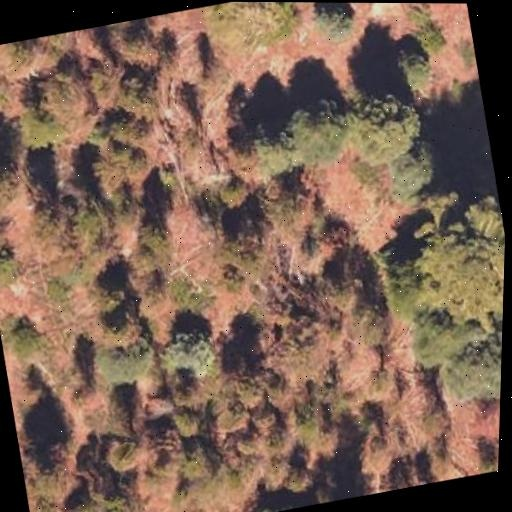tree-top: (390, 185, 507, 337), (330, 79, 427, 176), (266, 89, 359, 180), (187, 1, 305, 62), (429, 322, 503, 413), (81, 319, 167, 394), (198, 187, 277, 264), (153, 315, 231, 386), (2, 86, 77, 159), (65, 188, 136, 260), (333, 287, 405, 356), (239, 470, 339, 512), (103, 58, 169, 118), (119, 203, 179, 264), (383, 147, 441, 205), (73, 475, 162, 512), (300, 2, 361, 51), (386, 40, 436, 97), (0, 308, 49, 364), (0, 149, 24, 210), (0, 234, 24, 289)
